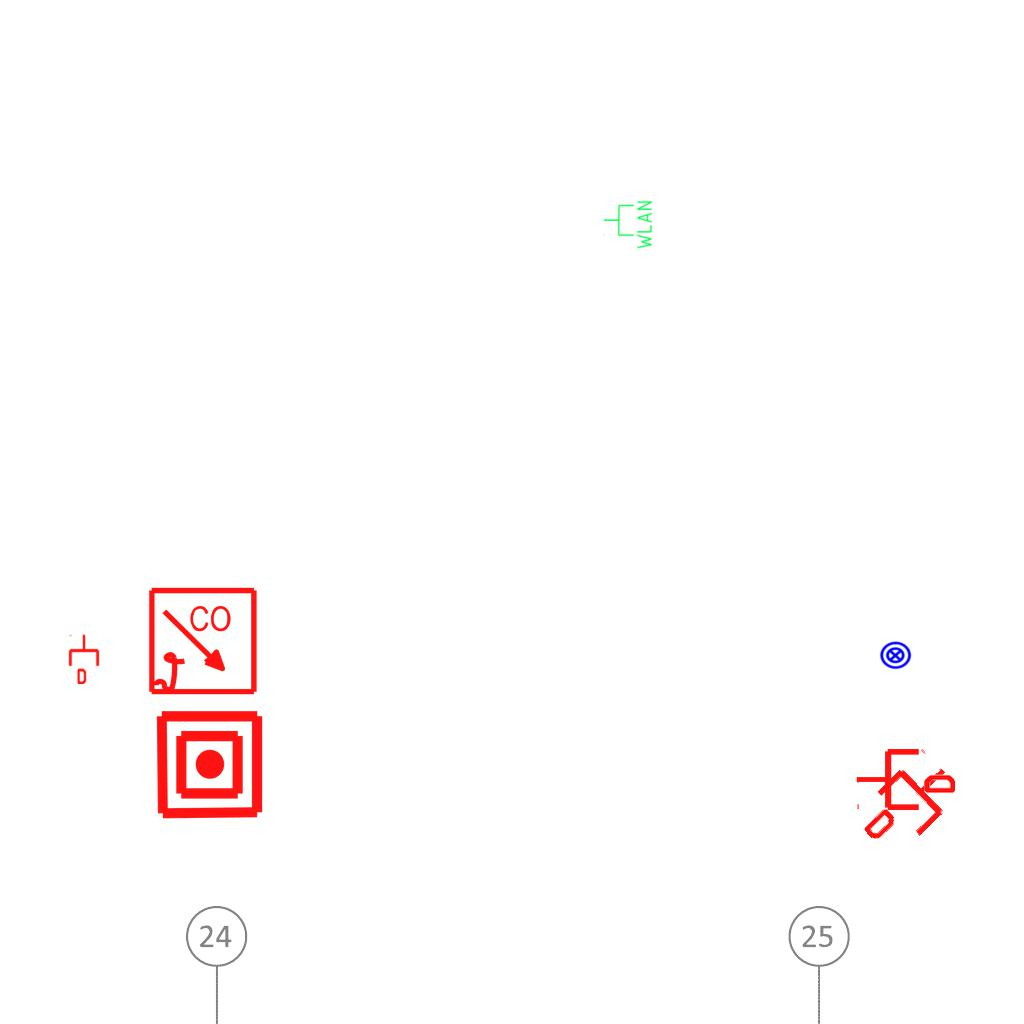Datenanschluss_einfach: (848, 744, 969, 864), (855, 745, 955, 814), (67, 634, 101, 684)
NAM-Nichtautomatischer_Melder: (153, 708, 266, 821)
ROA_Rauchmelder_optisch_mit_Signalgeber_(Sockelsirene): (147, 586, 260, 699)
Taster_beleuchtet: (879, 639, 912, 672)
WLAN: (602, 199, 654, 251)
